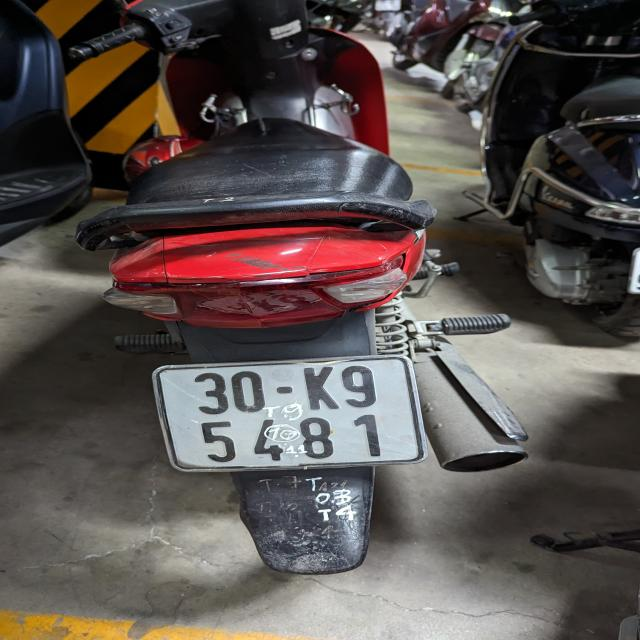License: (150, 354, 428, 473)
